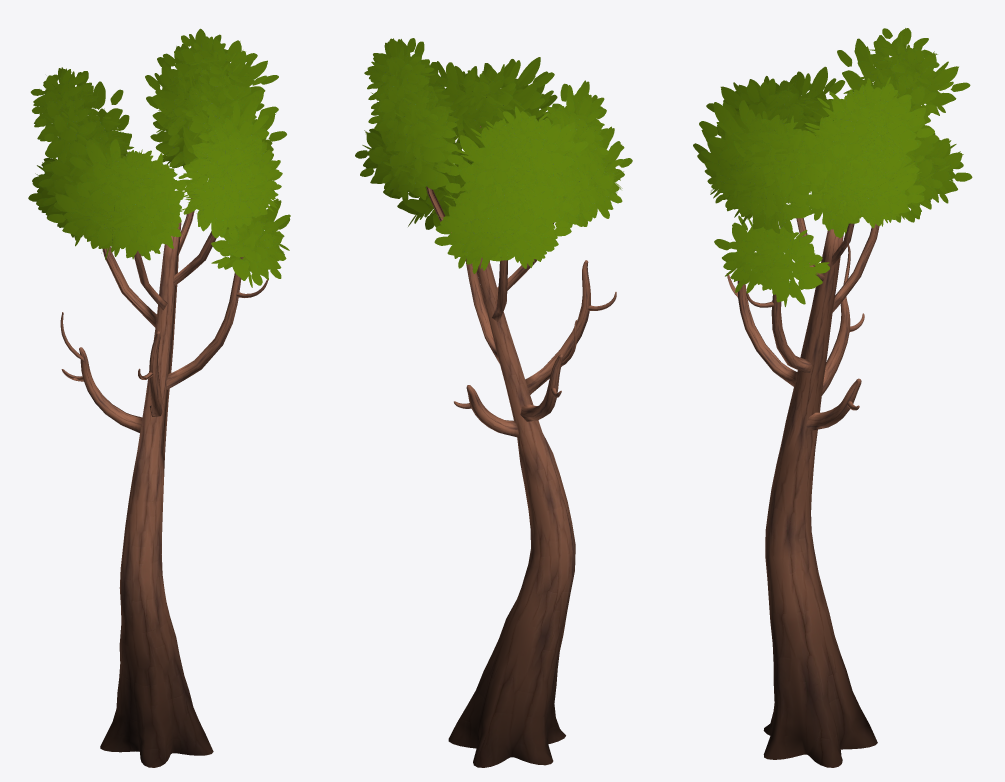
File: CommonTree_4.glb
3 renders of one model, left to right at view 1: azimuth 30°, elevation 25°; view 2: azimuth 150°, elevation 25°; view 3: azimuth 270°, elevation 25°, orthographic. The views are drawn at different scales.
Visible parts, largest first — view 1: CommonTree_4; view 2: CommonTree_4; view 3: CommonTree_4.
Boxes of the visible parts, <box> form: CommonTree_4: <box>28,28,290,767</box>; CommonTree_4: <box>355,38,632,767</box>; CommonTree_4: <box>693,28,972,767</box>.
Bounding box in the file's own units: 3.83 × 9.44 × 3.76.
2 materials, 2 textured.
